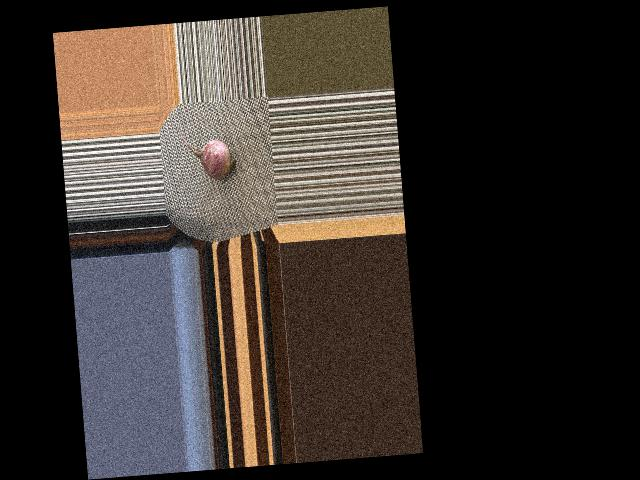beet: (177, 121, 237, 183)
